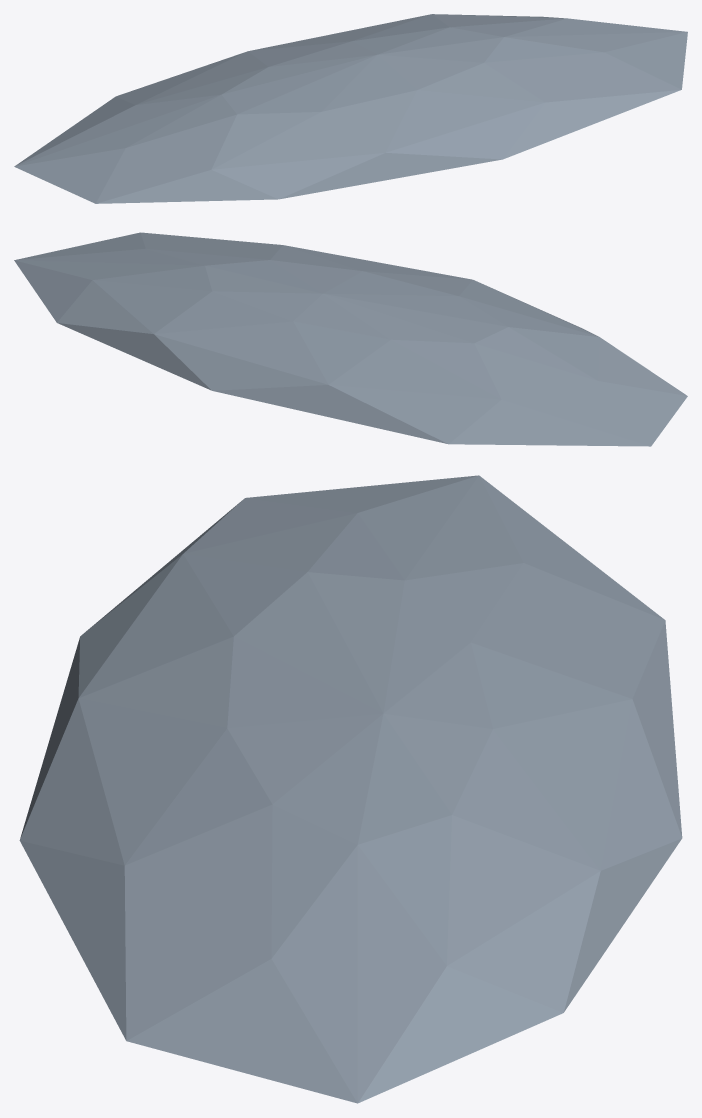
The model's file is gothic_snowdrift.glb.
3 renders of one model, top to bottom at view 1: azimuth 30°, elevation 25°; view 2: azimuth 150°, elevation 25°; view 3: azimuth 270°, elevation 25°, orthographic. The views are drawn at different scales.
Parts seen in each view (by area): view 1: gothic_snowdrift; view 2: gothic_snowdrift; view 3: gothic_snowdrift.
Boxes of the visible parts, left/top/right/bottom form: gothic_snowdrift: left=14, top=14, right=687, bottom=203; gothic_snowdrift: left=14, top=232, right=687, bottom=446; gothic_snowdrift: left=19, top=475, right=682, bottom=1103.
Size of the model in its own units: 2.89 by 0.2 by 1.29.
